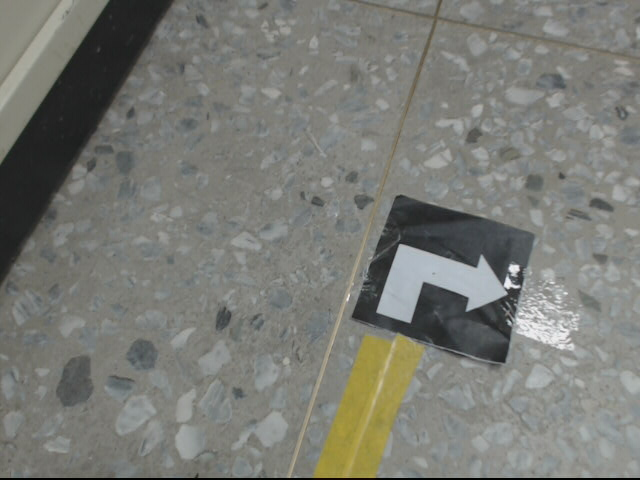right: (353, 194, 534, 362)
